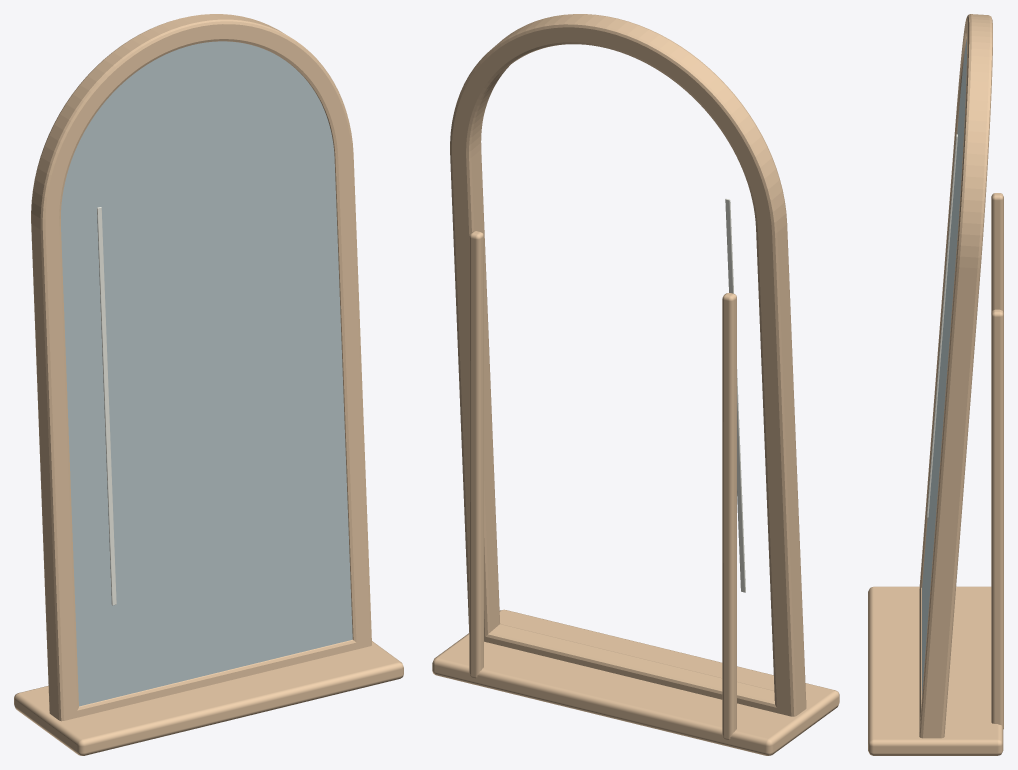
File: suite_floor_mirror.glb
3 renders of one model, left to right at view 1: azimuth 30°, elevation 25°; view 2: azimuth 150°, elevation 25°; view 3: azimuth 270°, elevation 25°, orthographic. The views are drawn at different scales.
Bounding box in the file's own units: 1.32 × 2.54 × 0.4825.
